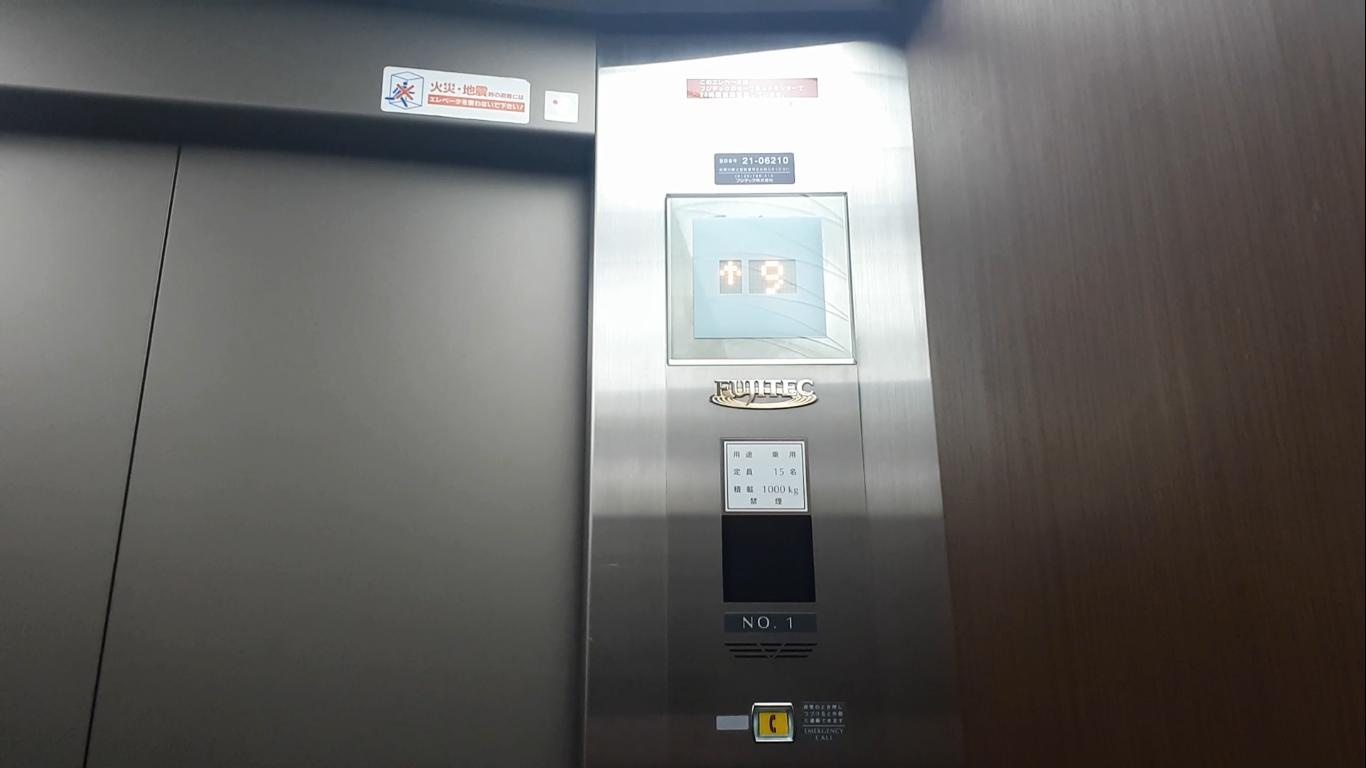call: (751, 702, 797, 746)
led: (687, 213, 830, 342), (721, 514, 816, 603)
